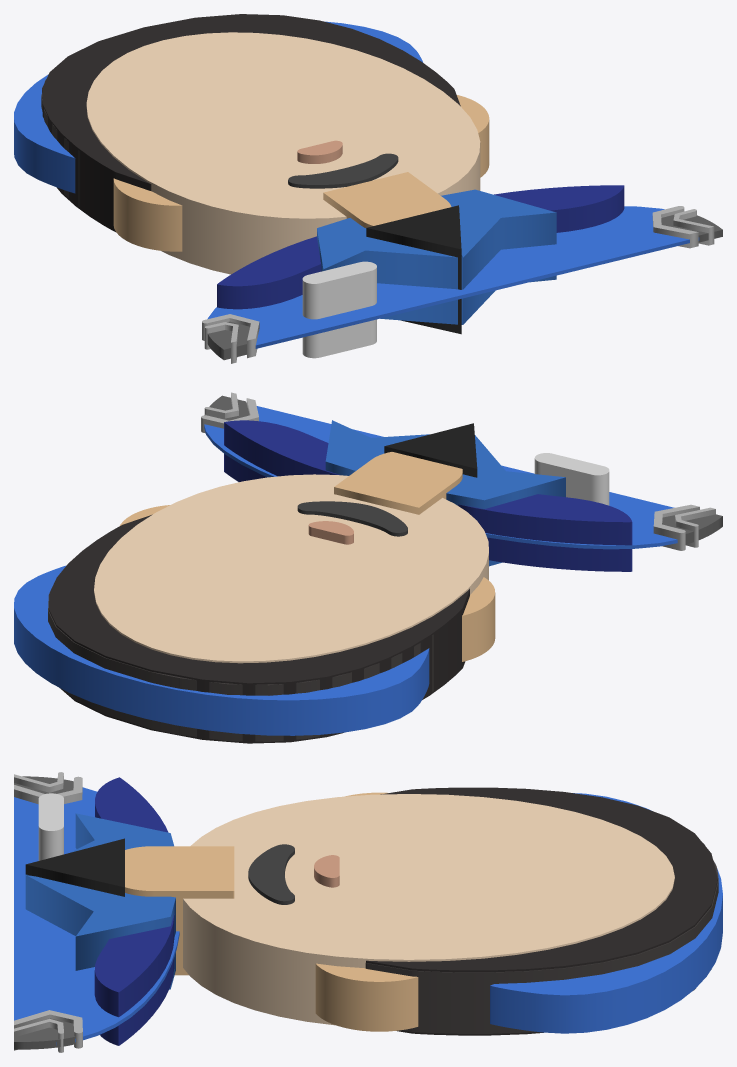
Rendered from emoji_u1f46e_1f3fb_200d_2642.glb.
3 renders of one model, top to bottom at view 1: azimuth 30°, elevation 25°; view 2: azimuth 150°, elevation 25°; view 3: azimuth 270°, elevation 25°, orthographic. The views are drawn at different scales.
Parts seen in each view (by area): view 1: emoji_u1f46e_1f3fb_200d_2642; view 2: emoji_u1f46e_1f3fb_200d_2642; view 3: emoji_u1f46e_1f3fb_200d_2642.
Part boxes in pixels (x1=…): emoji_u1f46e_1f3fb_200d_2642: x1=14, y1=14, x2=722, y2=363; emoji_u1f46e_1f3fb_200d_2642: x1=14, y1=392, x2=722, y2=743; emoji_u1f46e_1f3fb_200d_2642: x1=14, y1=772, x2=722, y2=1052.
Size of the model in its own units: 0.0295 by 0.0048 by 0.0336.
